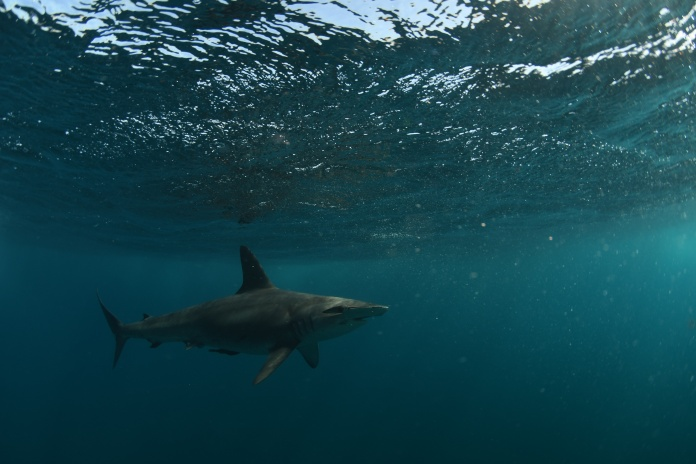Hammer: (69, 214, 446, 419)
